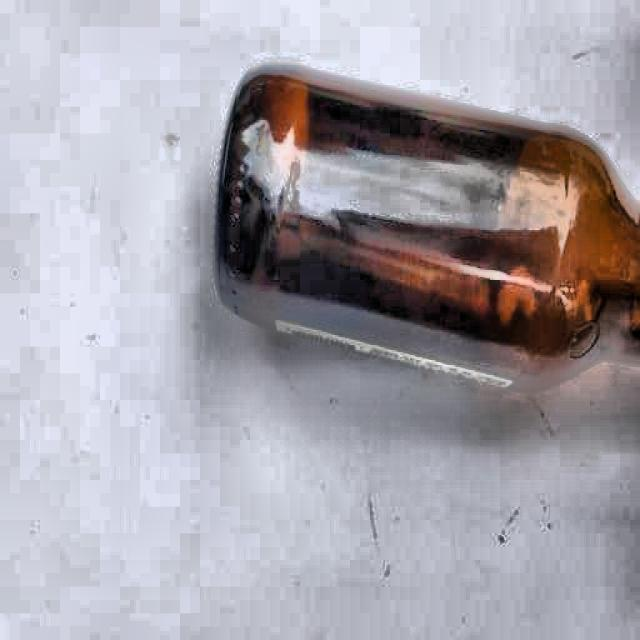glass: (205, 56, 640, 400)
